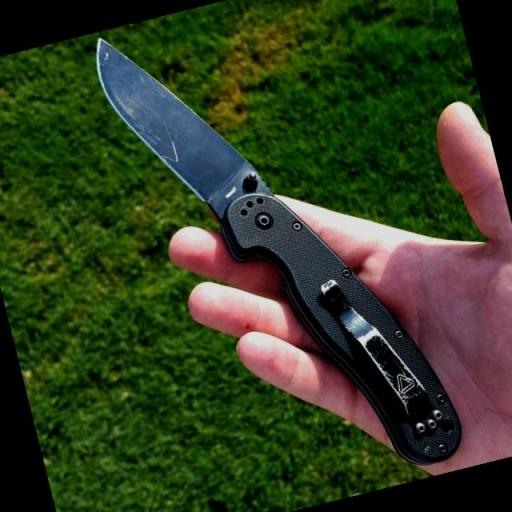knife: (82, 0, 480, 512)
